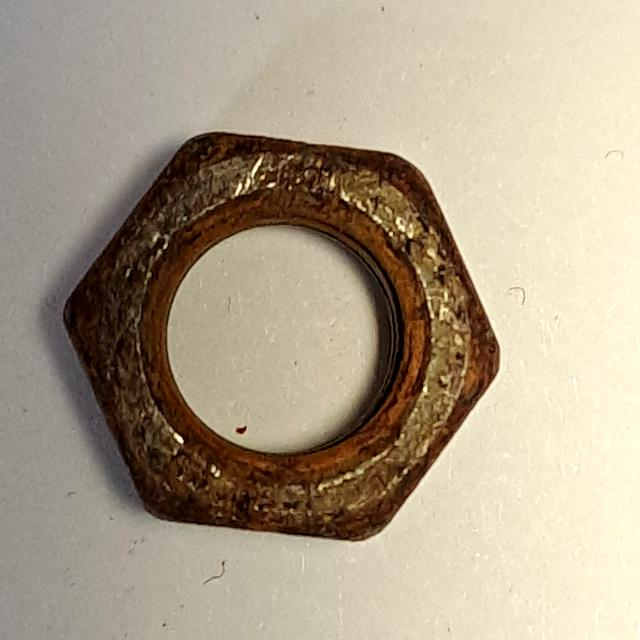Rust: (53, 117, 521, 565)
